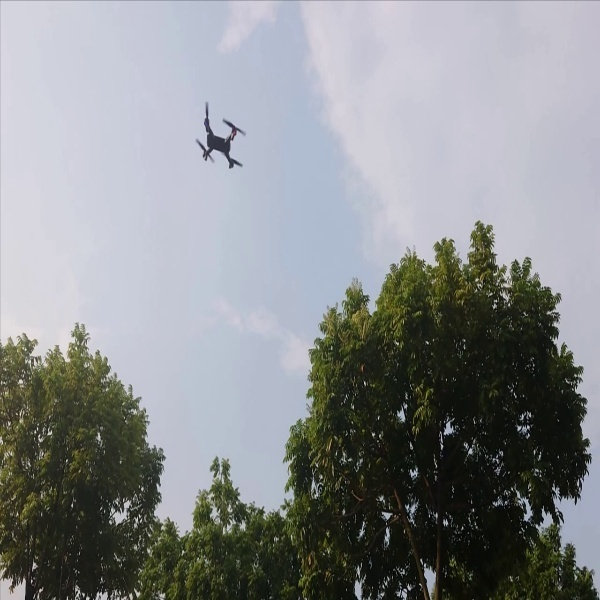drone: (187, 94, 252, 179)
